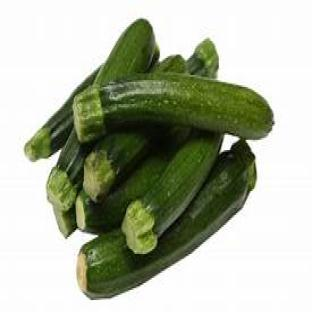Zucchini: (78, 142, 256, 298), (24, 19, 158, 160), (73, 74, 273, 141), (122, 132, 222, 254), (77, 154, 170, 233), (24, 69, 98, 161), (83, 128, 165, 202), (94, 19, 154, 85), (47, 130, 90, 211), (188, 38, 218, 78), (54, 207, 77, 238), (151, 55, 188, 73), (149, 43, 159, 70)
